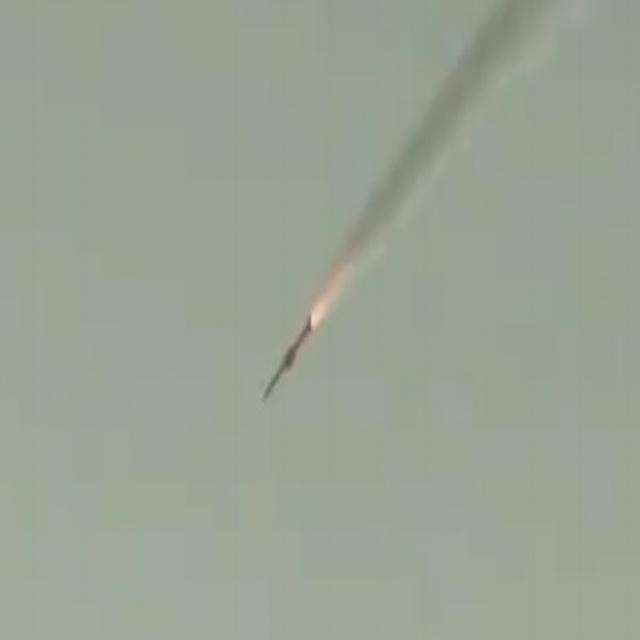missile: (263, 307, 321, 402)
